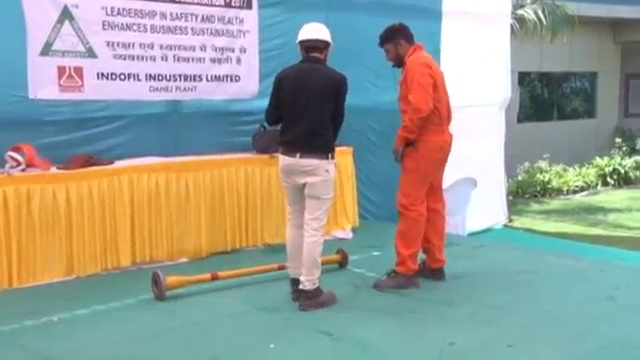helmet: (295, 22, 334, 49)
helmet_off: (380, 20, 418, 69)
helmet_on: (291, 20, 335, 62)
person: (265, 20, 339, 312), (376, 20, 450, 289)
